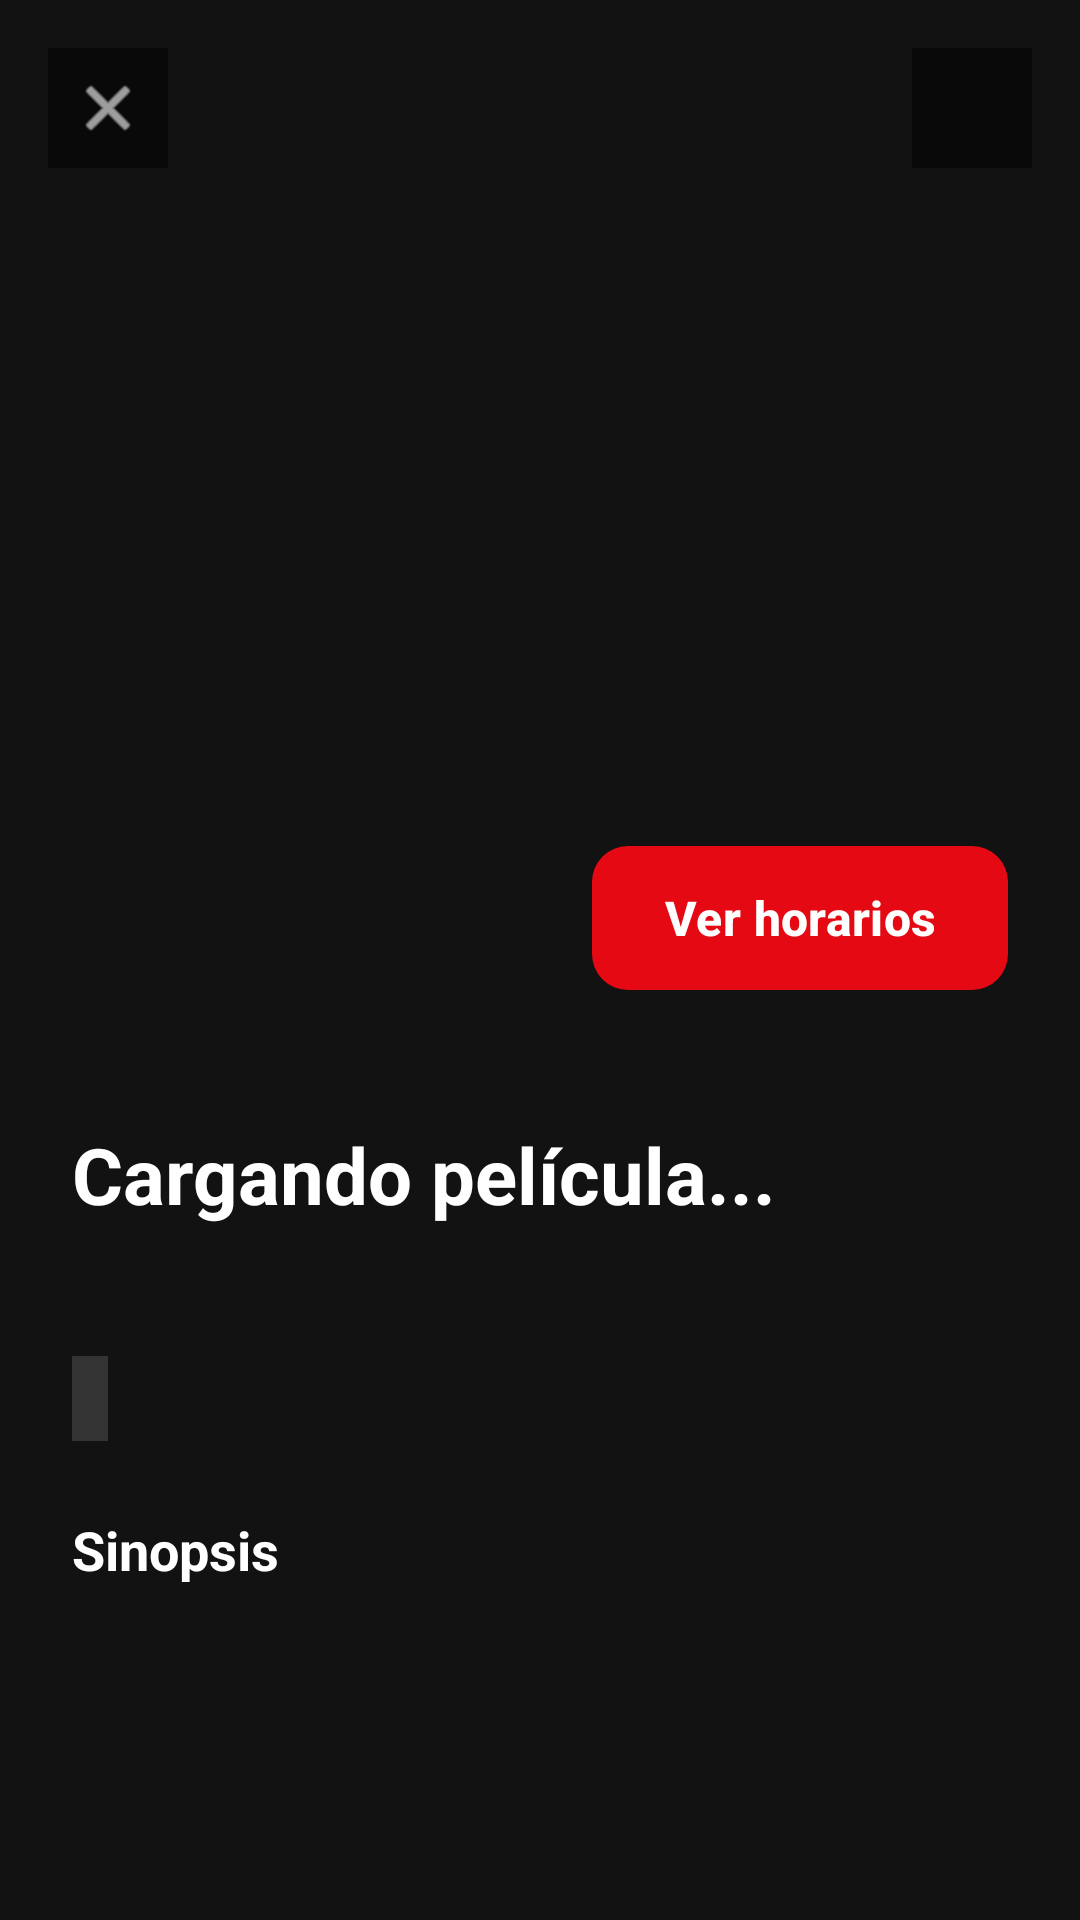

Screen size 1080px×1920px. Icon name, then its box in pixels as box=[x1, y1, x2, y2]:
close clear cancel: box=[48, 48, 168, 168]
